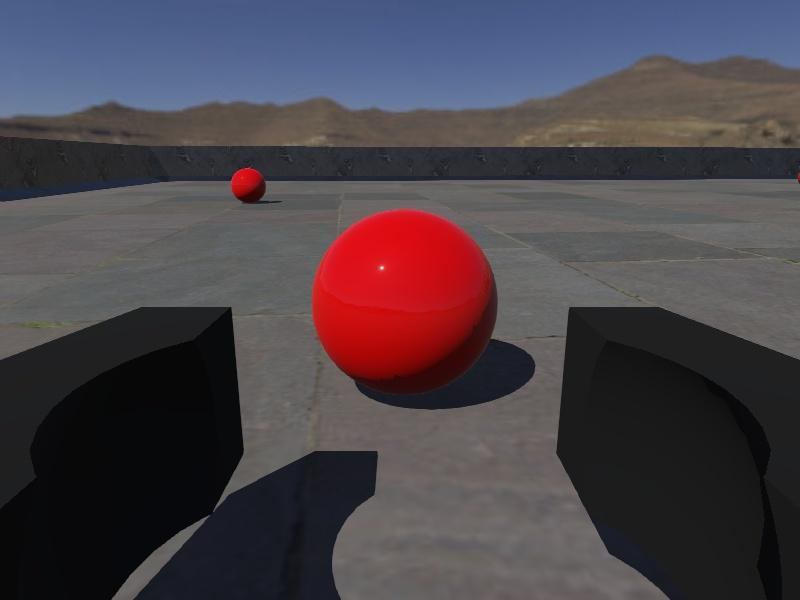red ball: (310, 207, 499, 398), (229, 165, 268, 205)
